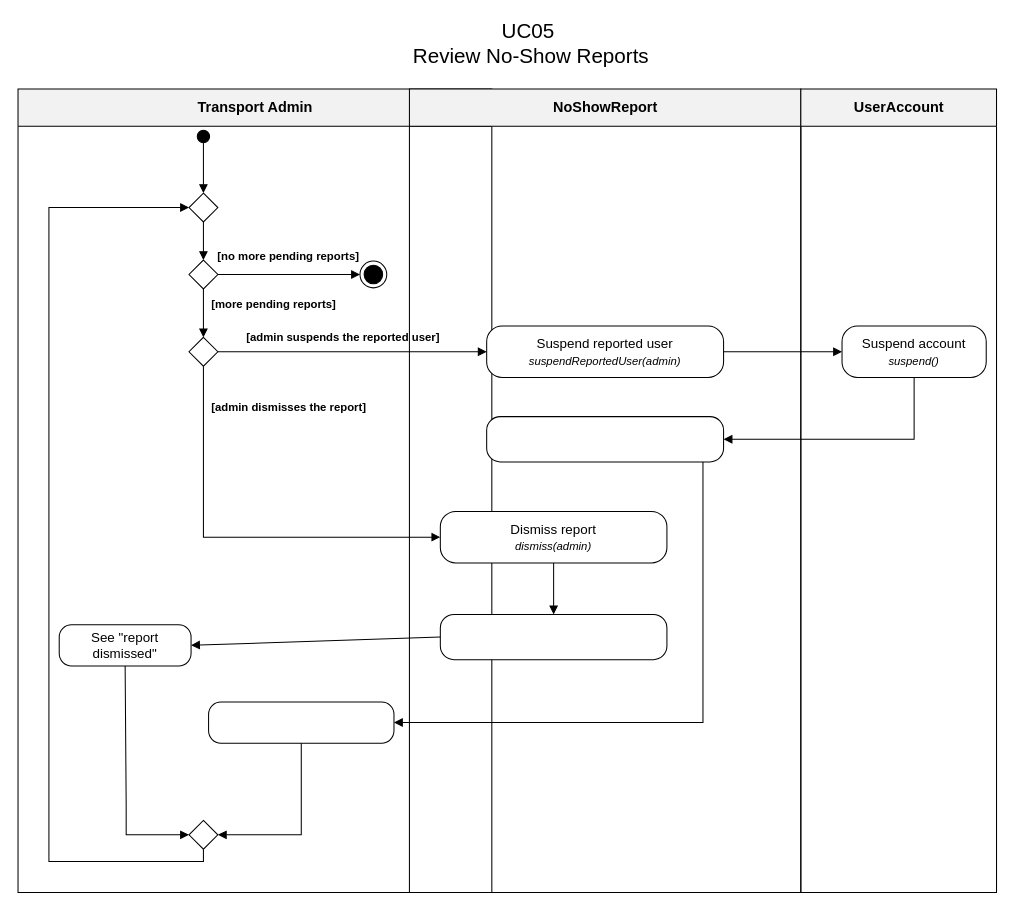
The diagram is 1015 pixels wide and 911 high, and some of its shapes have lost their labels. Each missing label, with the box of its shape:
Record decision = "dismissed": (439, 613, 667, 660)
Record decision = "suspended": (486, 416, 724, 462)
See "account suspended": (208, 701, 394, 743)
